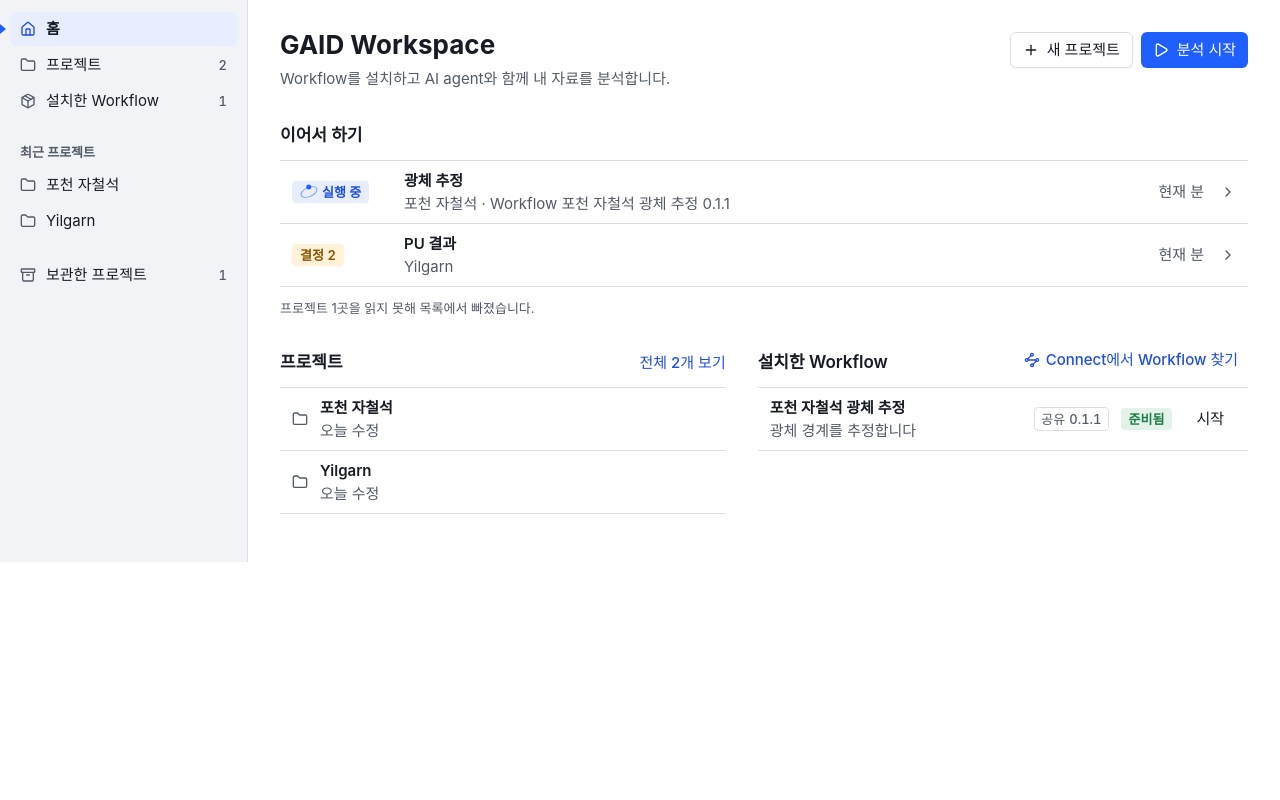
it: Workspace home › shows the project list as its own view
Click the button "프로젝트 2".
click(124, 65)  # box [10, 48, 237, 82]
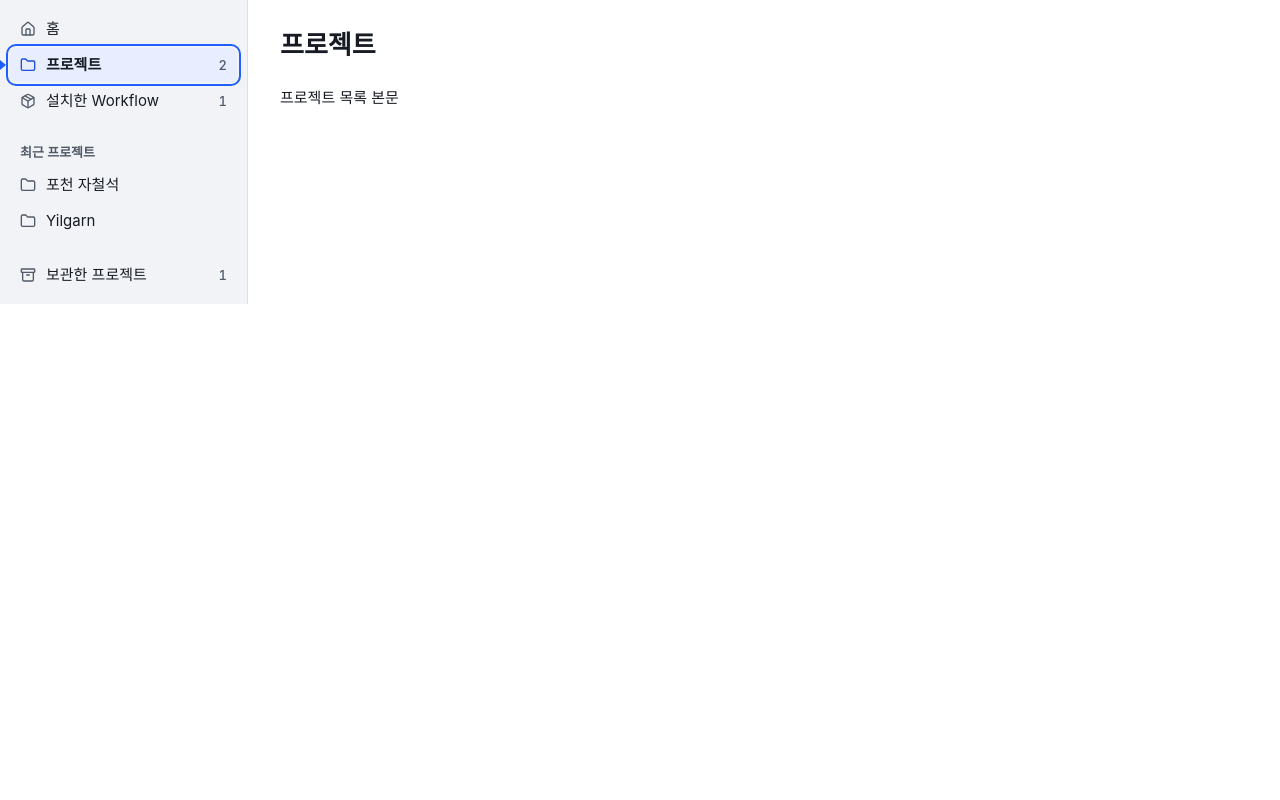
Now the text "프로젝트 목록 본문" is shown, box [280, 88, 399, 107]
